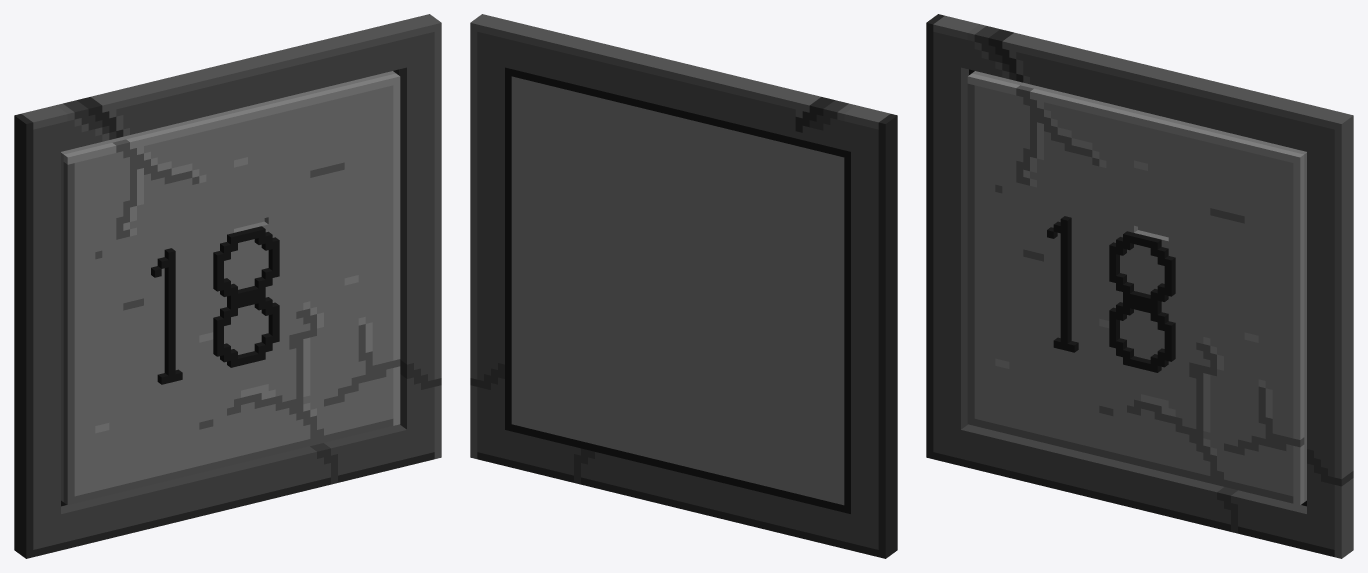
Rendered from balpan_18.obj.
The picture shows the model from 3 angles, left to right: view 1: azimuth 30°, elevation 25°; view 2: azimuth 150°, elevation 25°; view 3: azimuth 330°, elevation 25°; orthographic projection.
Visible parts, largest first — view 1: balpan_18; view 2: balpan_18; view 3: balpan_18.
Part boxes in pixels (bbox=[...]): balpan_18: bbox=[14, 14, 441, 558]; balpan_18: bbox=[470, 14, 897, 558]; balpan_18: bbox=[926, 14, 1353, 558].
Bounding box in the file's own units: 60 × 60 × 4.
Materials: 1 (1 with a texture image).
